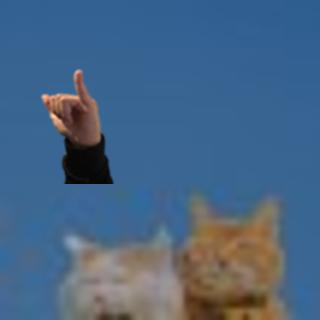HAVE: (35, 61, 104, 142)
